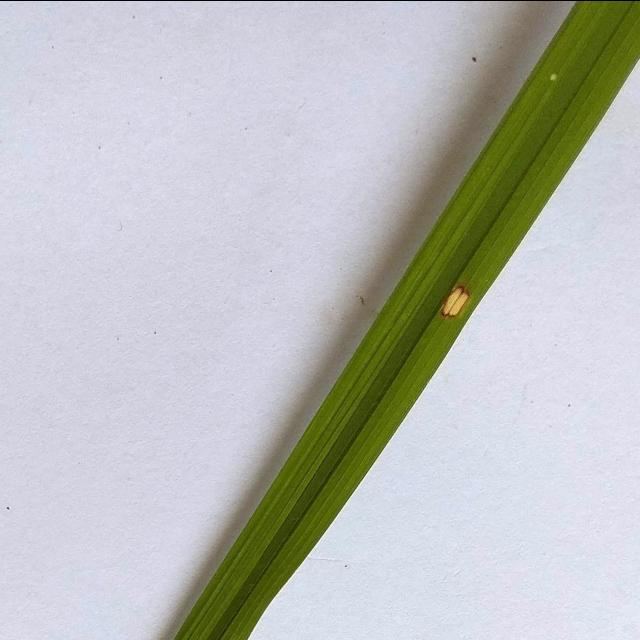Leaf blast: (153, 0, 640, 640)
